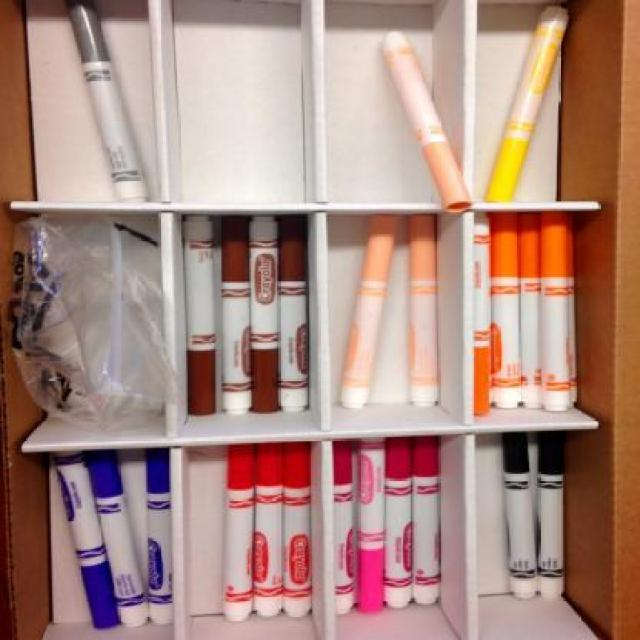plastic bag: (9, 214, 189, 437)
